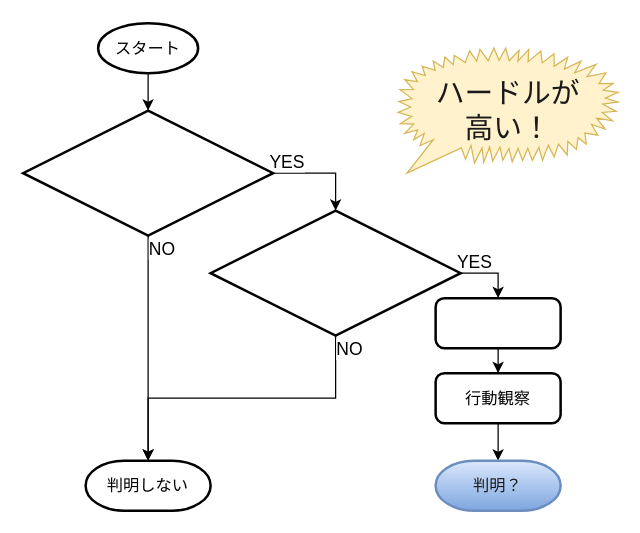
The diagram is 640 pixels wide and 533 high, and some of its shapes have lost their labels. The centre of each missing label's shape, as x and y in pixels:
"保護者が 「子どもに障害がある？」 と気づいた" goes at (x=147, y=172).
"保護者が 特別支援教室や 通級指導への申込み を決心した" goes at (x=335, y=272).
"発達検査" goes at (x=497, y=322).
